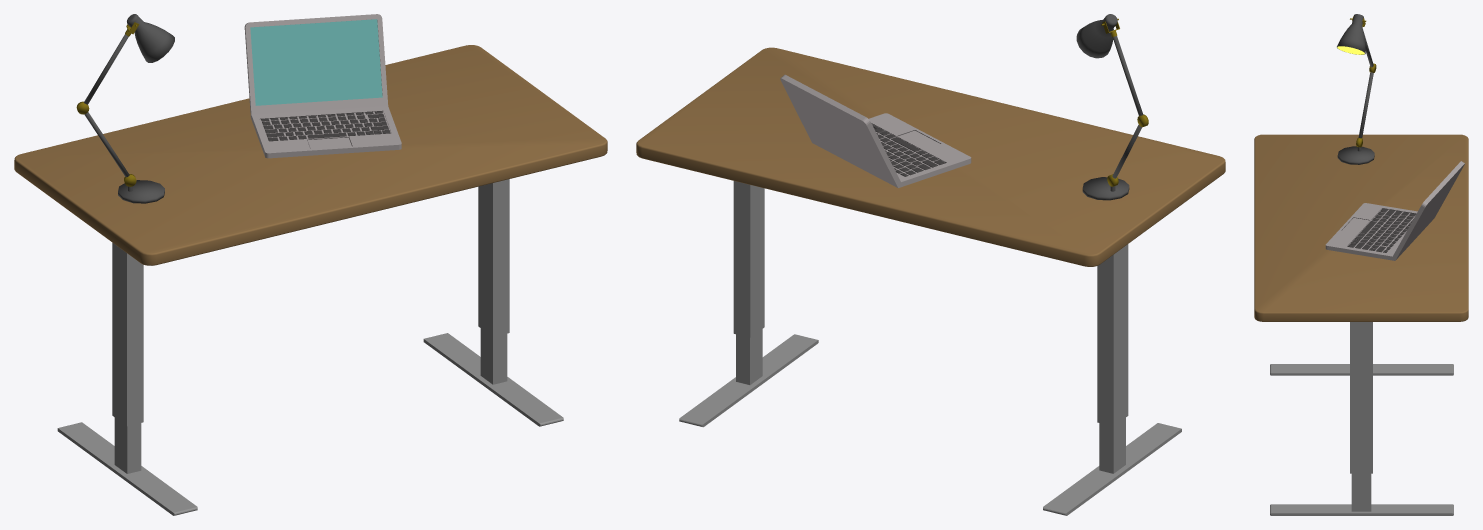
The model's file is desk_w_lamp_laptop.glb.
3 renders of one model, left to right at view 1: azimuth 30°, elevation 25°; view 2: azimuth 150°, elevation 25°; view 3: azimuth 270°, elevation 25°, orthographic. The views are drawn at different scales.
Parts seen in each view (by area): view 1: Stand Up Desk, Laptop, Cube; view 2: Stand Up Desk, Laptop, Cube; view 3: Stand Up Desk, Laptop, Cube.
Part boxes in pixels (<box>): Stand Up Desk: <box>14,45,607,515</box>; Laptop: <box>244,14,401,158</box>; Cube: <box>76,14,174,203</box>; Stand Up Desk: <box>636,47,1225,515</box>; Laptop: <box>780,74,971,188</box>; Cube: <box>1076,14,1148,200</box>; Stand Up Desk: <box>1254,134,1468,515</box>; Laptop: <box>1325,161,1464,260</box>; Cube: <box>1337,14,1376,164</box>.
Size of the model in its own units: 1.4 by 1.31 by 0.71.
